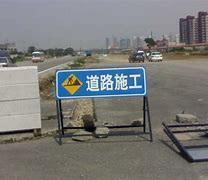sign: (55, 66, 147, 99)
